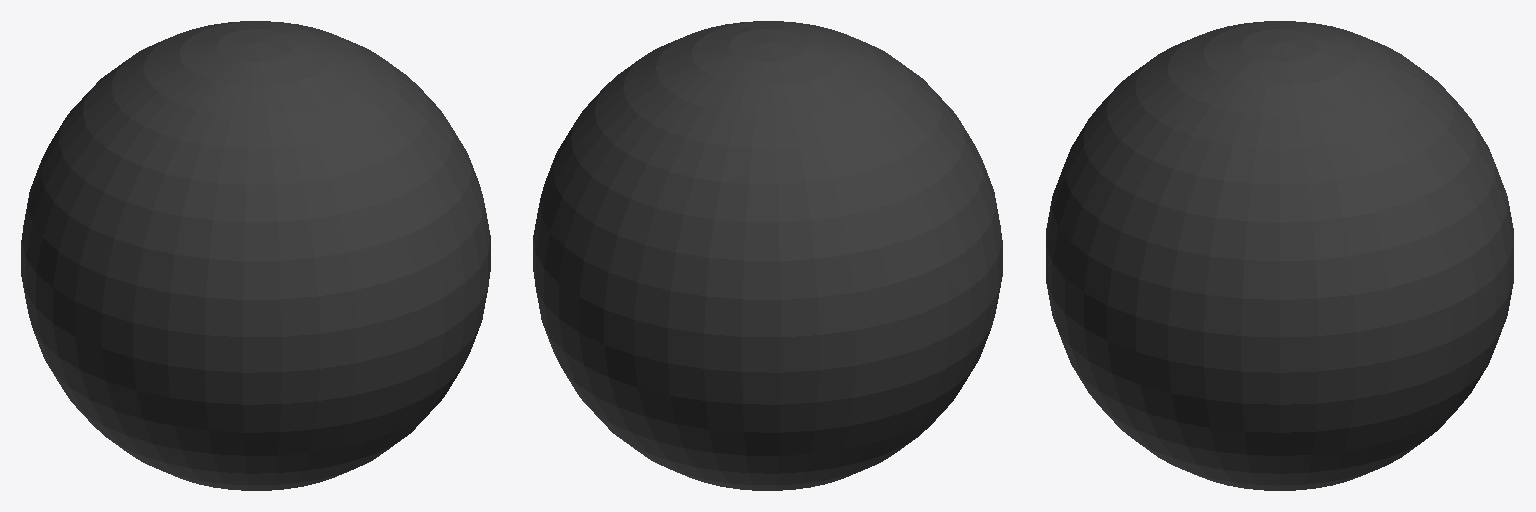
Rendered from originOnly.obj.
3 views of the same model, side by side, from view 1: azimuth 30°, elevation 25°; view 2: azimuth 150°, elevation 25°; view 3: azimuth 270°, elevation 25° (orthographic).
Visible parts, largest first — view 1: origin_Body92_Opaque(255,255,255).003; view 2: origin_Body92_Opaque(255,255,255).003; view 3: origin_Body92_Opaque(255,255,255).003.
Boxes of the visible parts, x1,y1,x2,y2 form: origin_Body92_Opaque(255,255,255).003: [21, 21, 490, 490]; origin_Body92_Opaque(255,255,255).003: [533, 21, 1002, 490]; origin_Body92_Opaque(255,255,255).003: [1046, 21, 1513, 490].
Bounding box in the file's own units: 0.9966 × 1 × 0.9932.